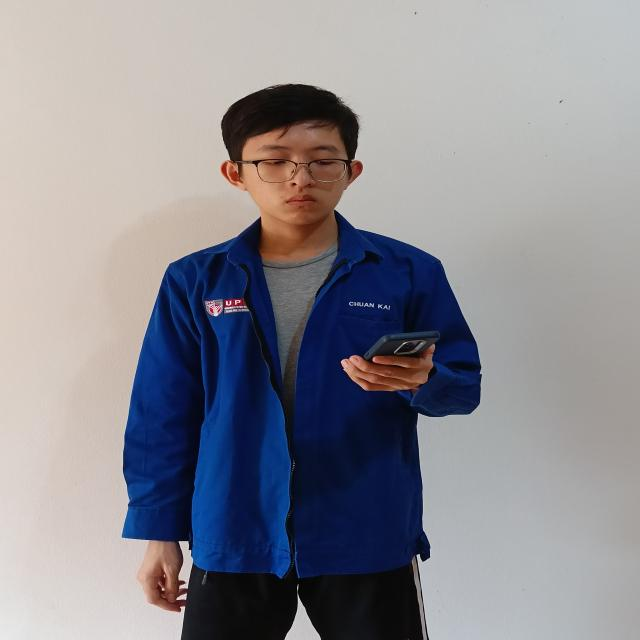person_with_labcoat: (123, 85, 481, 640)
